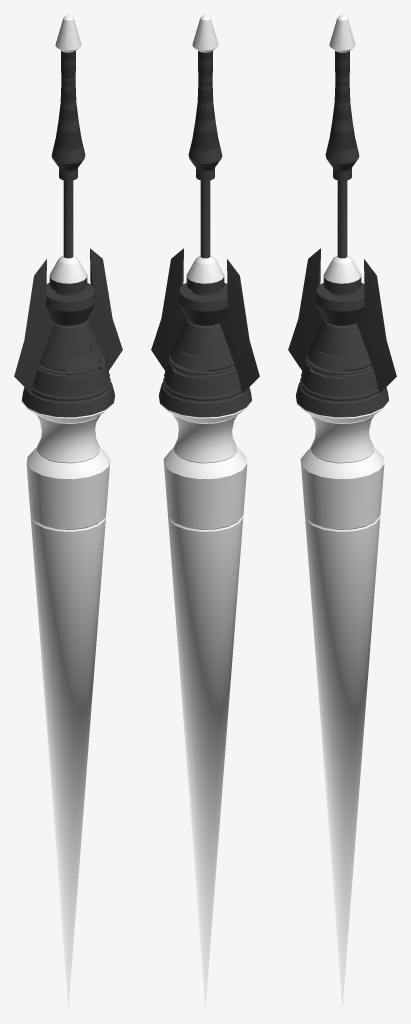
File: Allas.fbx
The picture shows the model from 3 angles, left to right: view 1: azimuth 30°, elevation 25°; view 2: azimuth 150°, elevation 25°; view 3: azimuth 330°, elevation 25°; orthographic projection.
Visible parts, largest first — view 1: Allas; view 2: Allas; view 3: Allas.
Part boxes in pixels (x1,y1,x2,y2): Allas: (14, 14, 122, 1009); Allas: (151, 14, 259, 1009); Allas: (288, 14, 396, 1009).
Bounding box in the file's own units: 26.41 × 231 × 19.8.
